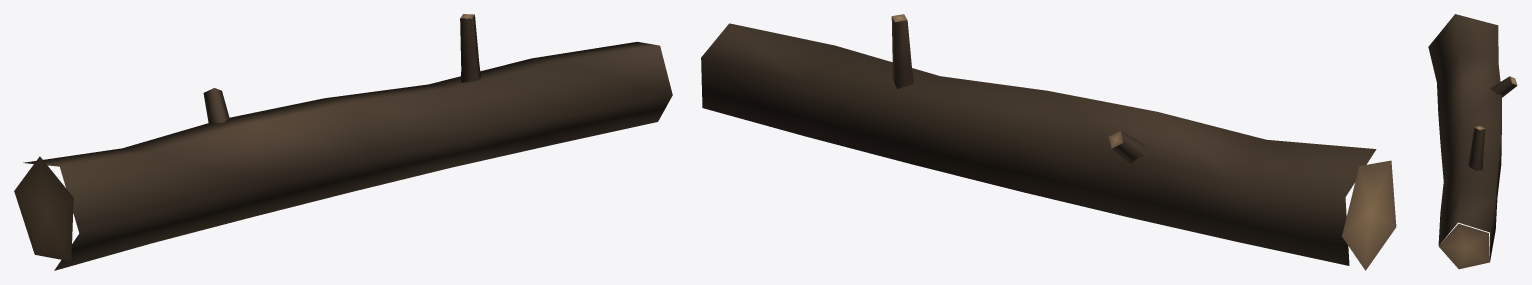
The model's file is log-fresh-b.lod2.glb.
The picture shows the model from 3 angles, left to right: view 1: azimuth 30°, elevation 25°; view 2: azimuth 150°, elevation 25°; view 3: azimuth 270°, elevation 25°; orthographic projection. The views are drawn at different scales.
Bounding box in the file's own units: 2.58 × 0.5501 × 0.5034.
